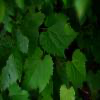grape leaf: (39, 11, 77, 55), (19, 46, 53, 95), (64, 49, 88, 85), (29, 19, 38, 60)
